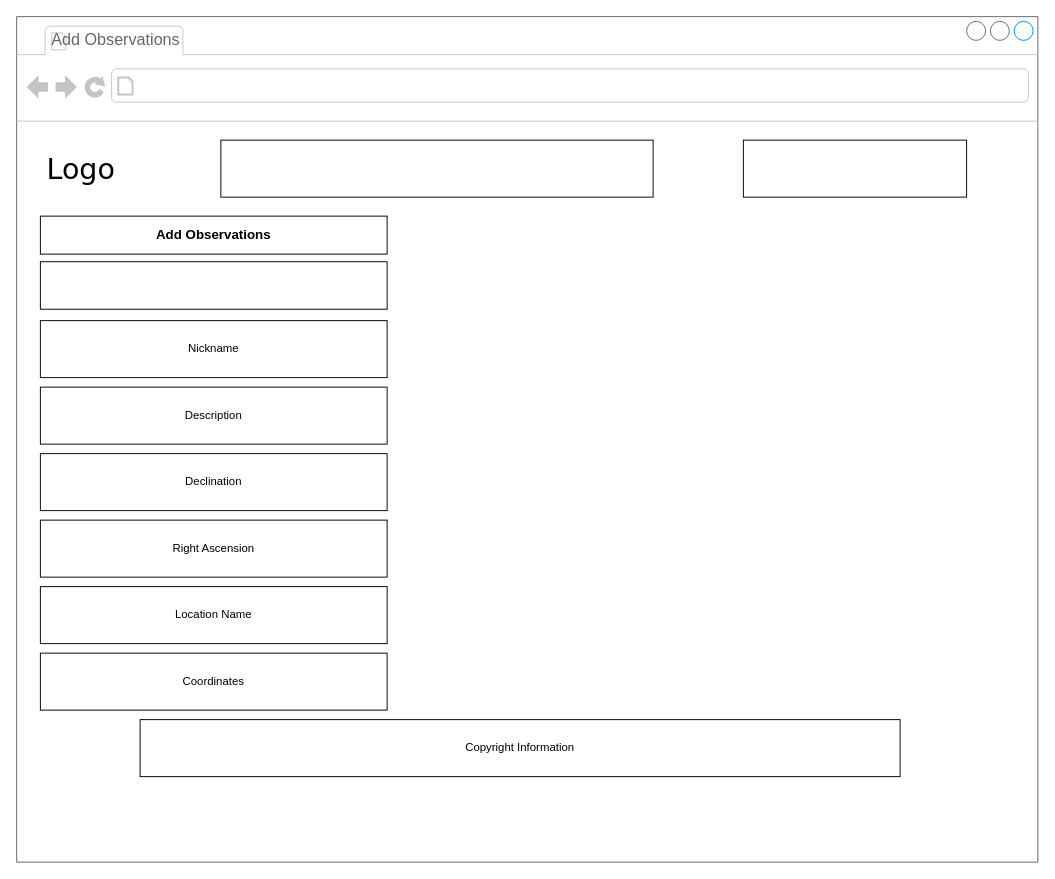
The diagram is 1055 pixels wide and 879 high, and some of its shapes have lost their labels. The box of each missing label's shape, as (x1, y1, x2, y2) in pixels:
file:///C:/Users/umer1/programming-4/Index.html: (139, 73, 378, 98)
NAV: (220, 139, 653, 197)
Observation Name: (39, 261, 387, 309)
Website Name: (742, 139, 967, 197)
